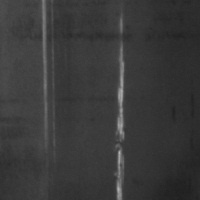scratches: (114, 13, 131, 198), (40, 1, 58, 155)
